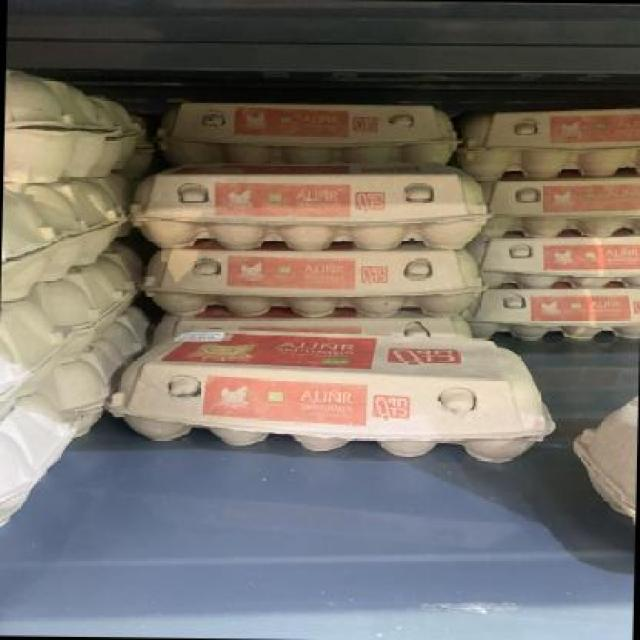Egg: (104, 329, 559, 457), (127, 158, 486, 252), (140, 246, 486, 322), (150, 100, 465, 168)
